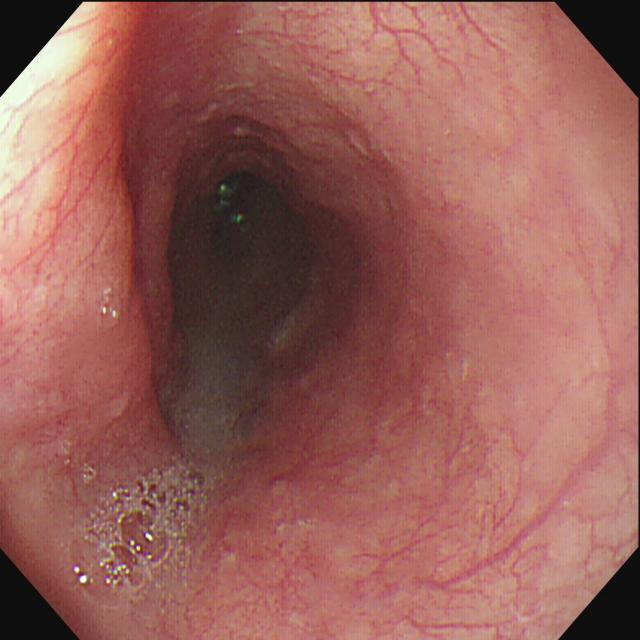A: (66, 74, 166, 344)
E: (189, 169, 324, 313)
T: (71, 385, 244, 609), (96, 290, 124, 329)
